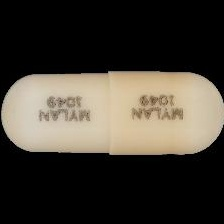63629-3221: (0, 0, 224, 224)
